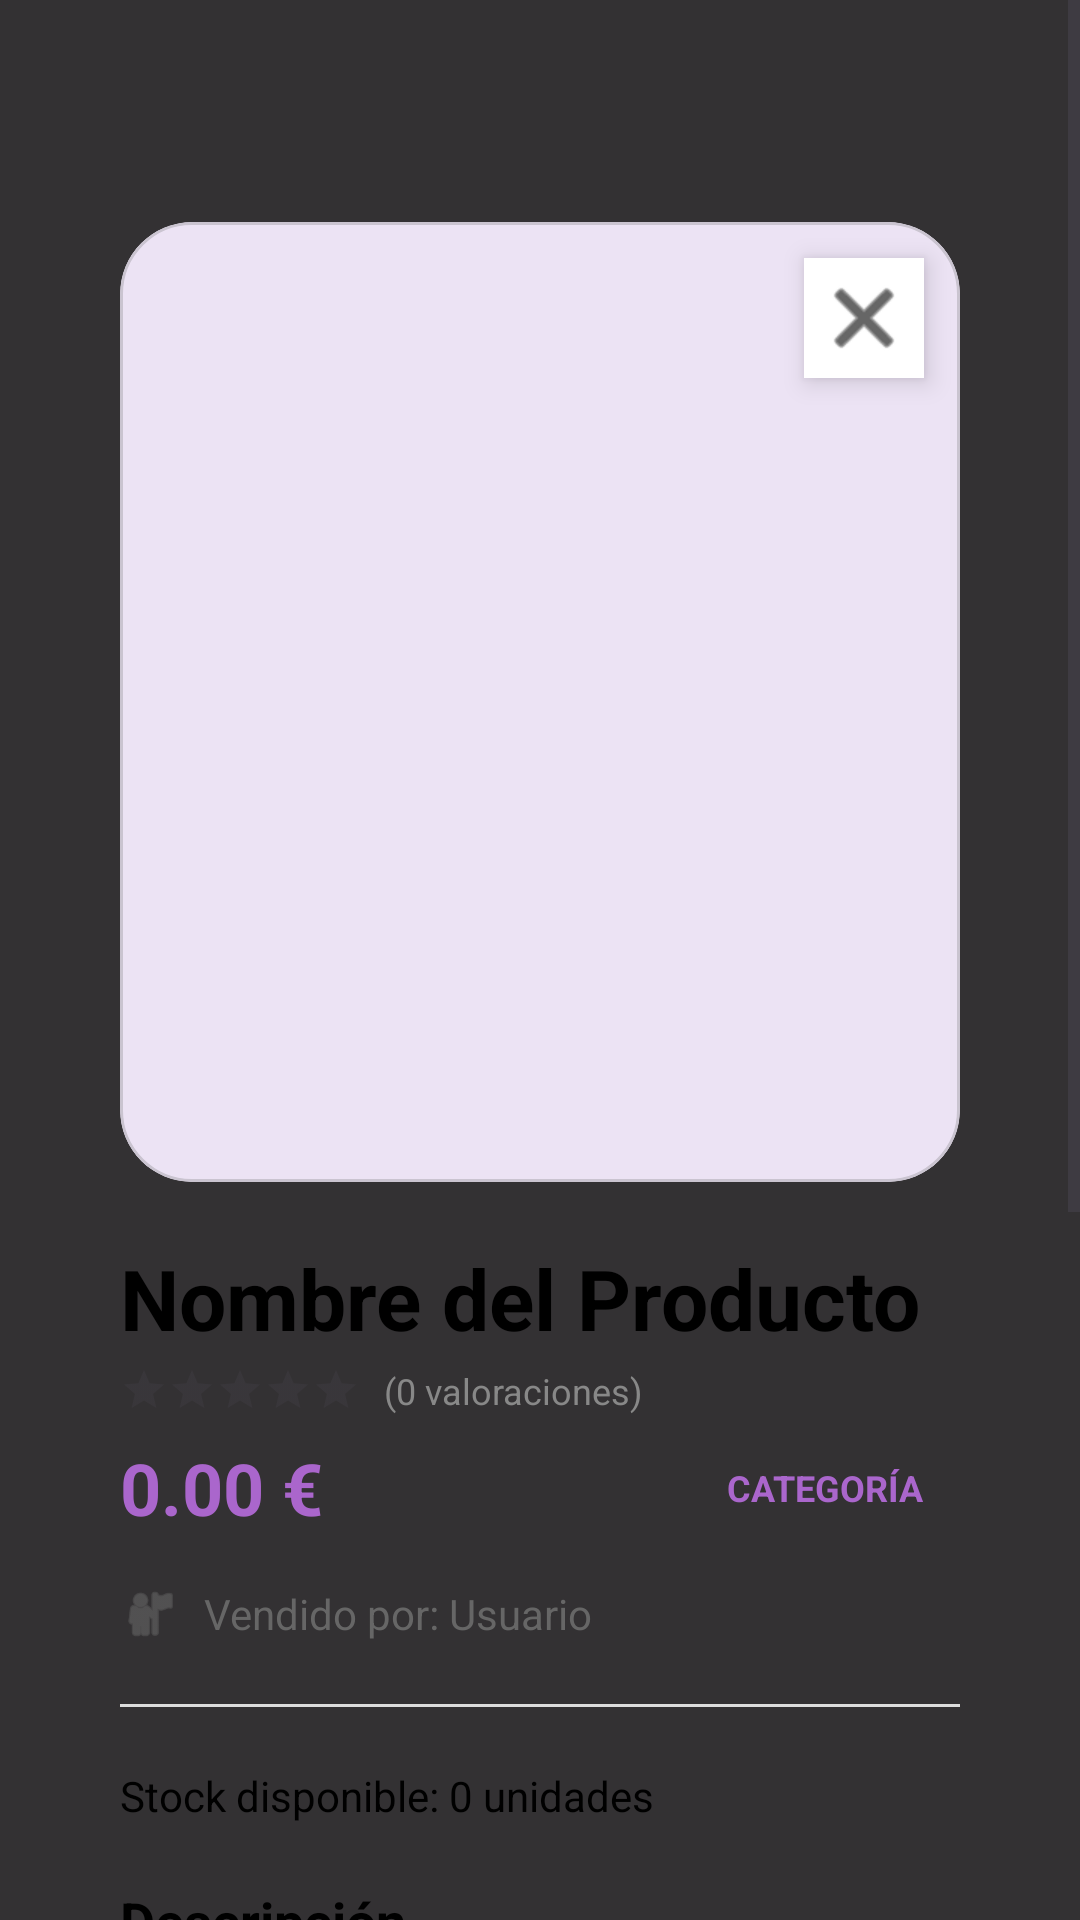

Point at icon controls on the screen. Image size 1080x1920, points as point (x, y).
Cerrar detalle: point (864, 318)
